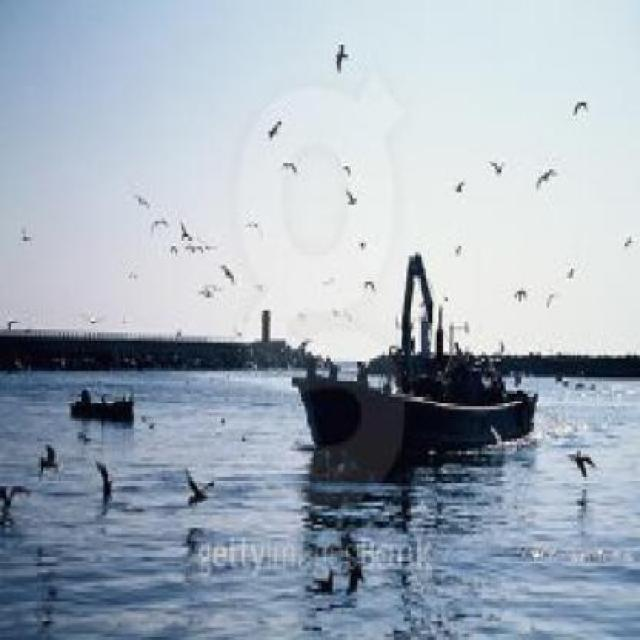fish-b: (289, 244, 546, 478)
